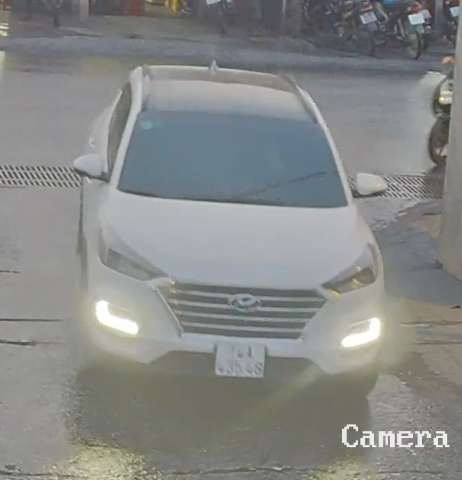vehicle plate: (212, 336, 265, 378)
